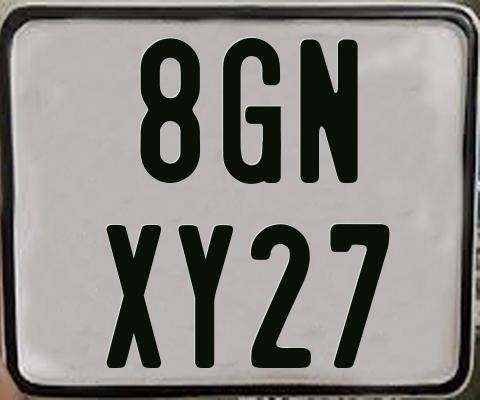2: (251, 223, 313, 370)
7: (329, 223, 391, 367)
8: (140, 37, 205, 186)
G: (220, 36, 278, 184)
N: (300, 38, 364, 186)
X: (105, 225, 166, 368)
Y: (175, 223, 236, 371)
